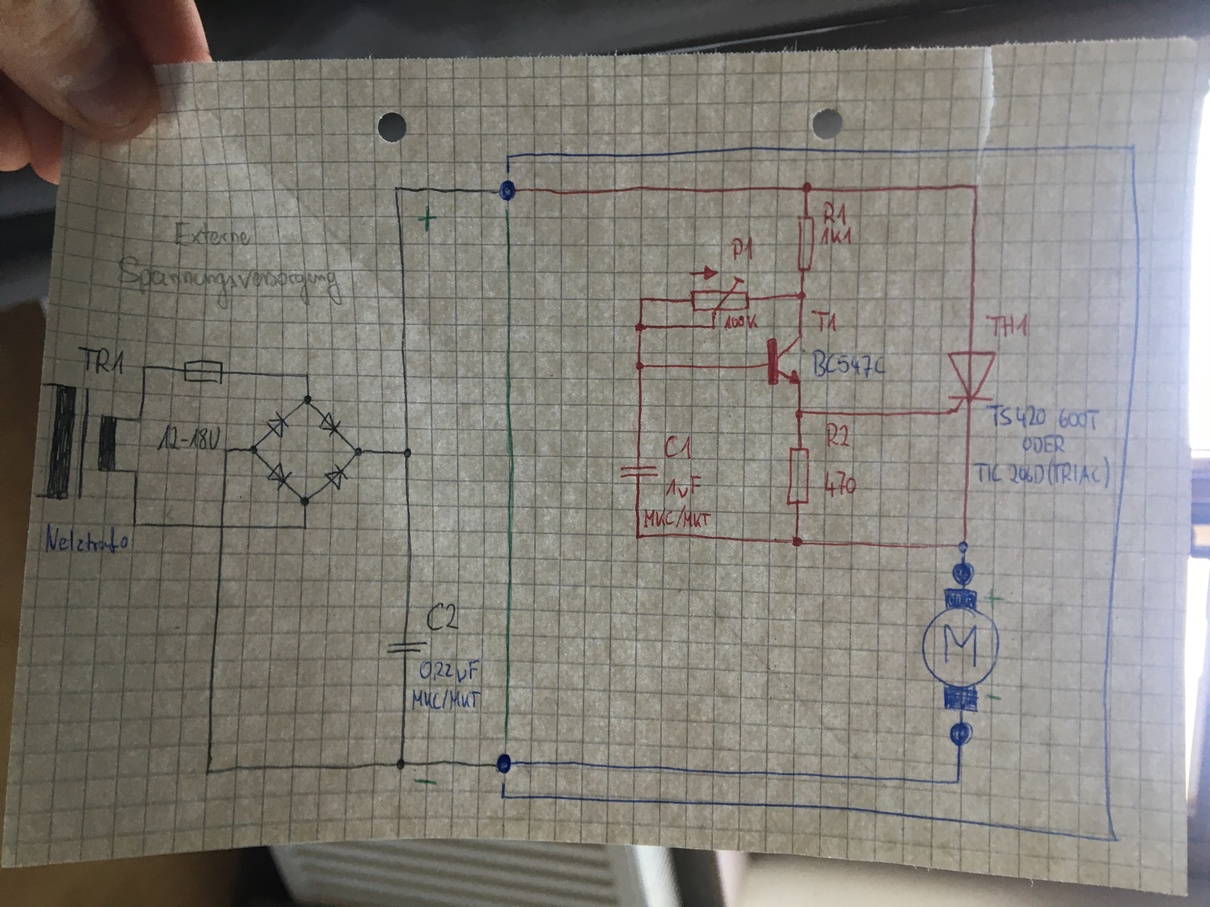capacitor.unpolarized: (617, 462, 661, 481), (384, 638, 429, 655)
crossover: (216, 521, 230, 533)
diode: (266, 461, 293, 490), (323, 462, 349, 491), (265, 409, 290, 439), (318, 411, 343, 438)
fuse: (181, 357, 227, 387)
junction: (954, 537, 970, 555), (799, 180, 814, 196), (789, 534, 805, 549), (394, 756, 409, 772), (967, 180, 983, 195), (633, 320, 649, 334), (298, 495, 312, 509), (352, 445, 365, 458), (793, 408, 807, 420), (401, 446, 413, 460), (794, 290, 807, 302), (248, 443, 260, 456), (302, 394, 314, 407), (634, 359, 646, 371), (391, 183, 403, 195), (952, 775, 963, 787), (636, 294, 647, 305), (300, 522, 311, 533), (632, 531, 644, 541), (221, 446, 231, 457), (134, 414, 144, 425), (130, 519, 140, 530), (203, 767, 213, 777), (302, 370, 312, 380), (131, 467, 140, 478), (709, 322, 719, 331), (140, 363, 149, 372)
motor: (920, 587, 1003, 715)
resistor: (784, 444, 813, 508), (794, 212, 817, 273)
resistor.adjustable: (688, 275, 751, 317)
terminal: (39, 379, 48, 389), (33, 492, 39, 500)
text: (115, 253, 346, 312), (970, 456, 1112, 490), (984, 402, 1101, 433), (43, 521, 130, 556), (810, 347, 888, 380), (173, 219, 253, 250), (642, 503, 712, 532), (155, 423, 222, 452), (74, 343, 127, 377), (410, 687, 483, 711), (418, 658, 481, 684), (983, 312, 1030, 339), (425, 601, 461, 633), (822, 469, 859, 499), (1020, 433, 1068, 455), (663, 474, 703, 500), (663, 433, 693, 462), (808, 308, 840, 335), (817, 225, 854, 247), (824, 421, 853, 449), (729, 235, 756, 263), (822, 199, 849, 227), (723, 312, 760, 332)
thyristor: (944, 349, 997, 415)
transformer: (43, 381, 121, 503)
transistor: (765, 332, 806, 389)
